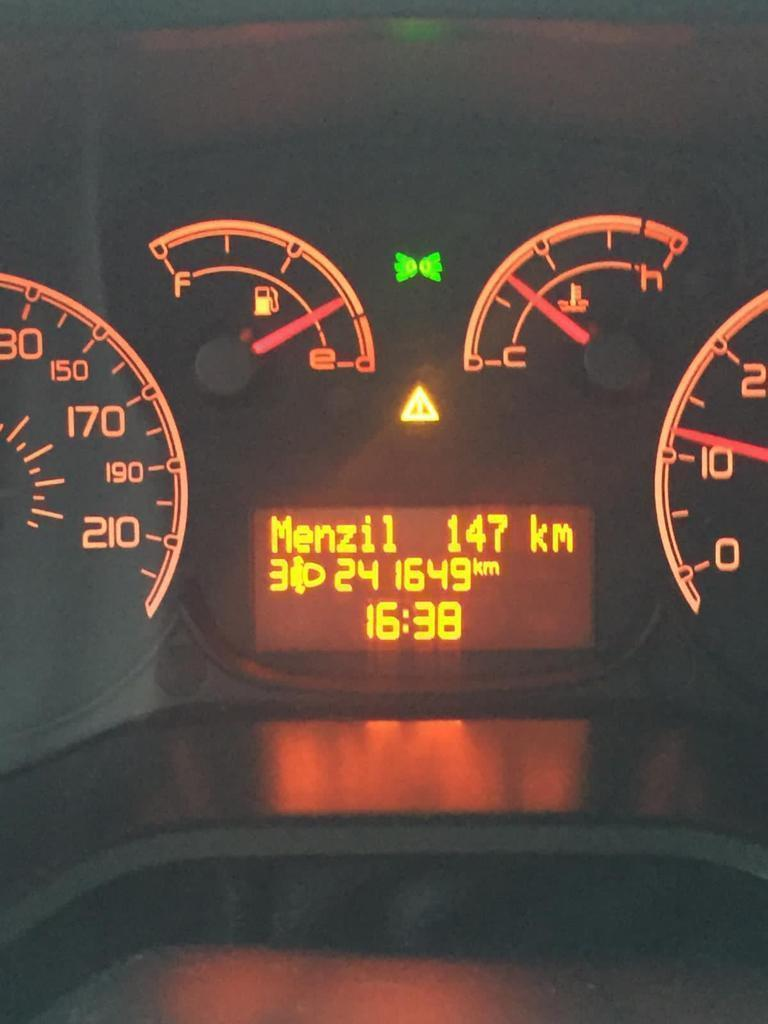1: (445, 512, 462, 554), (365, 602, 374, 642), (394, 558, 402, 591)
2: (334, 557, 356, 592)
3: (412, 599, 435, 640), (267, 556, 289, 591)
4: (465, 512, 487, 554), (425, 556, 449, 590), (357, 558, 380, 591)
6: (377, 600, 400, 640), (403, 556, 424, 591)
8: (435, 599, 462, 641)
9: (450, 555, 472, 592)
X: (269, 512, 292, 554), (528, 511, 548, 554), (379, 510, 398, 554), (551, 519, 573, 555), (313, 523, 336, 554), (337, 523, 358, 555), (292, 522, 313, 553), (360, 512, 375, 553), (483, 558, 501, 578), (402, 605, 410, 635), (473, 556, 483, 578)
odometer: (244, 497, 600, 654)
